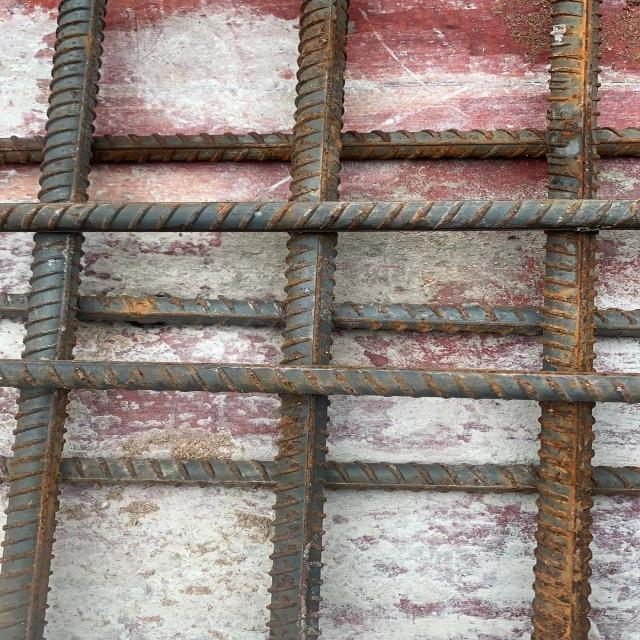ribbed bar: (1, 0, 109, 639), (263, 0, 354, 639), (530, 0, 603, 639), (1, 291, 640, 340), (1, 357, 640, 405), (1, 453, 640, 497), (1, 128, 640, 168), (1, 200, 640, 232)
